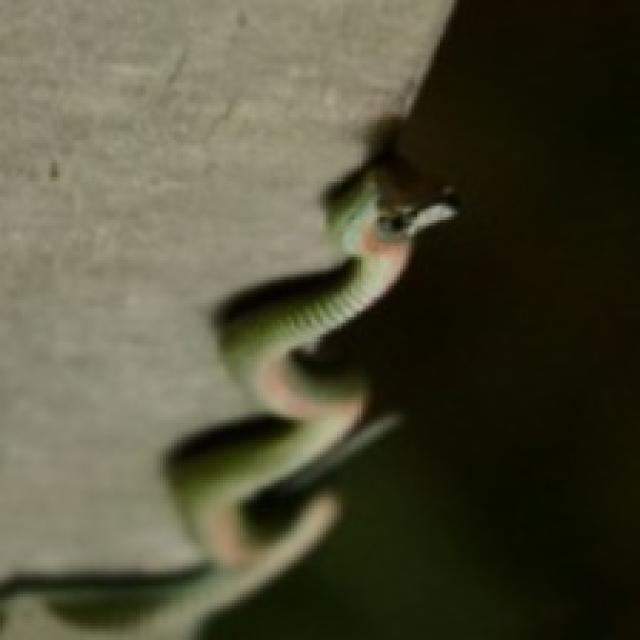paradise tree snake: (0, 140, 454, 637)
